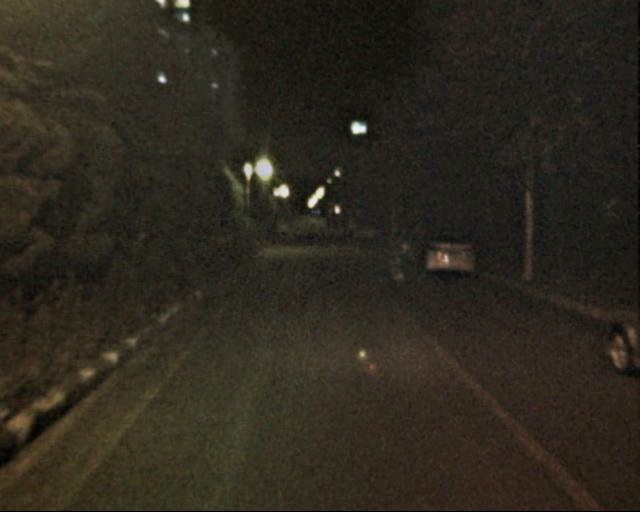person: (383, 224, 408, 284), (408, 221, 433, 281), (322, 217, 353, 238), (278, 215, 289, 243)
